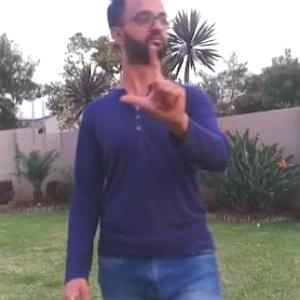land_hand: (118, 41, 192, 130)
